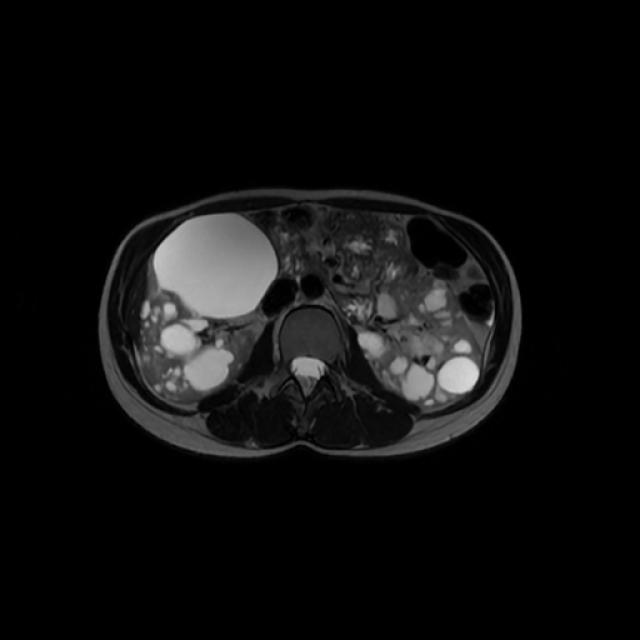sag: (137, 211, 280, 405)
sol: (357, 274, 484, 409)
